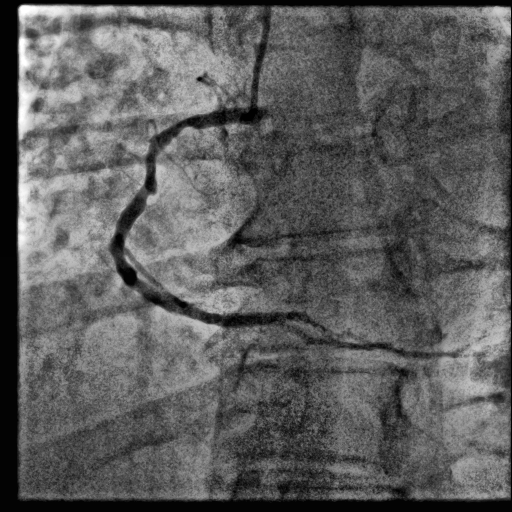pborca: (287, 312, 469, 358)
pda: (283, 323, 412, 349)
rca: (110, 107, 289, 327)
